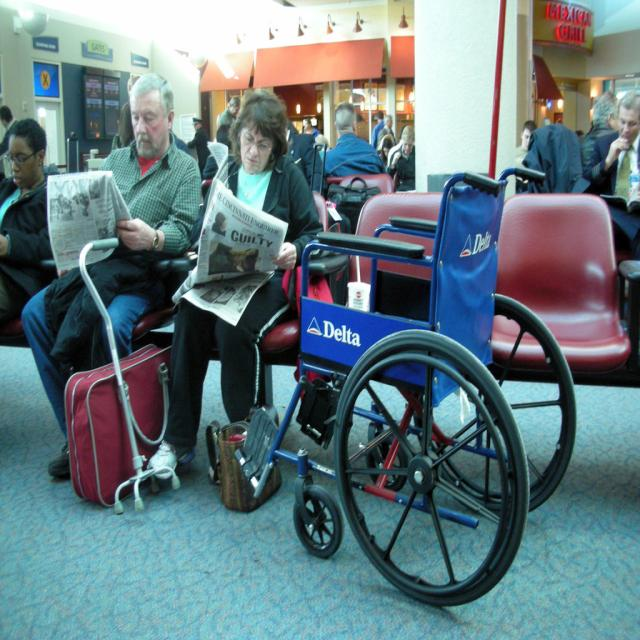wheelchairs: (245, 165, 574, 606)
